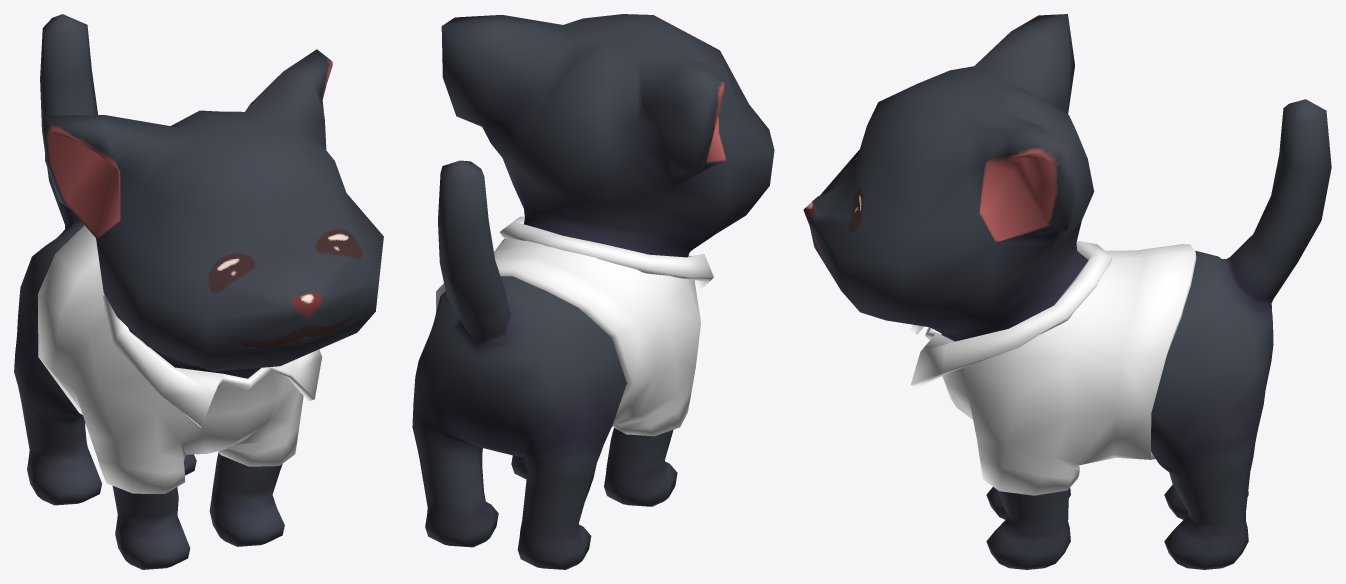
File: Staff Cat03.fbx
The picture shows the model from 3 angles, left to right: view 1: azimuth 30°, elevation 25°; view 2: azimuth 150°, elevation 25°; view 3: azimuth 270°, elevation 25°; orthographic projection. The views are drawn at different scales.
Visible parts, largest first — view 1: Cat_Base002, Staff_Cat_shirt; view 2: Cat_Base002, Staff_Cat_shirt; view 3: Cat_Base002, Staff_Cat_shirt.
Part boxes in pixels (x1,y1,x2,y2): Cat_Base002: (14,14,383,569); Staff_Cat_shirt: (38,225,321,493); Cat_Base002: (412,14,774,569); Staff_Cat_shirt: (436,216,713,436); Cat_Base002: (803,14,1331,569); Staff_Cat_shirt: (910,240,1196,495).
Size of the model in its own units: 1.75 by 2.83 by 2.68.
Materials: 2 (1 with a texture image).
